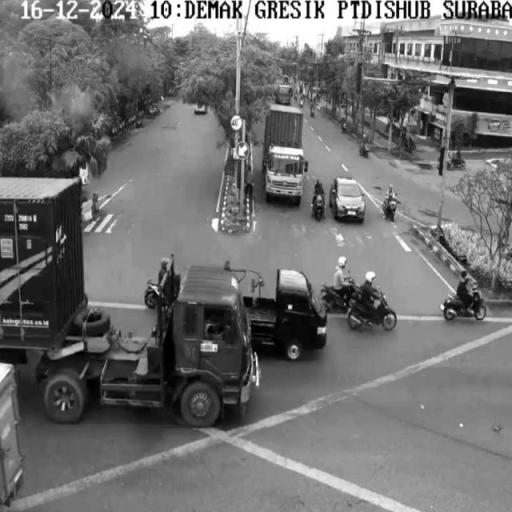car: (331, 178, 370, 221)
motorcycle: (441, 286, 492, 319), (348, 297, 400, 328), (382, 197, 404, 221), (312, 189, 324, 220), (143, 283, 159, 306)
truck: (0, 177, 252, 426), (241, 268, 331, 361), (267, 105, 304, 207)
